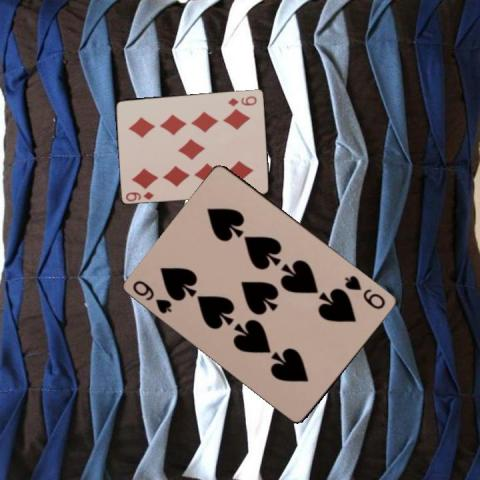9d: (225, 93, 258, 107), (124, 189, 156, 202)
9s: (342, 272, 387, 311), (129, 278, 174, 316)
